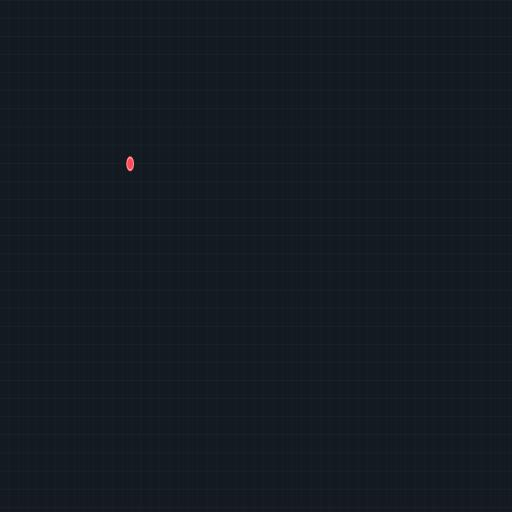Target-Detection: (126, 156, 134, 171)
